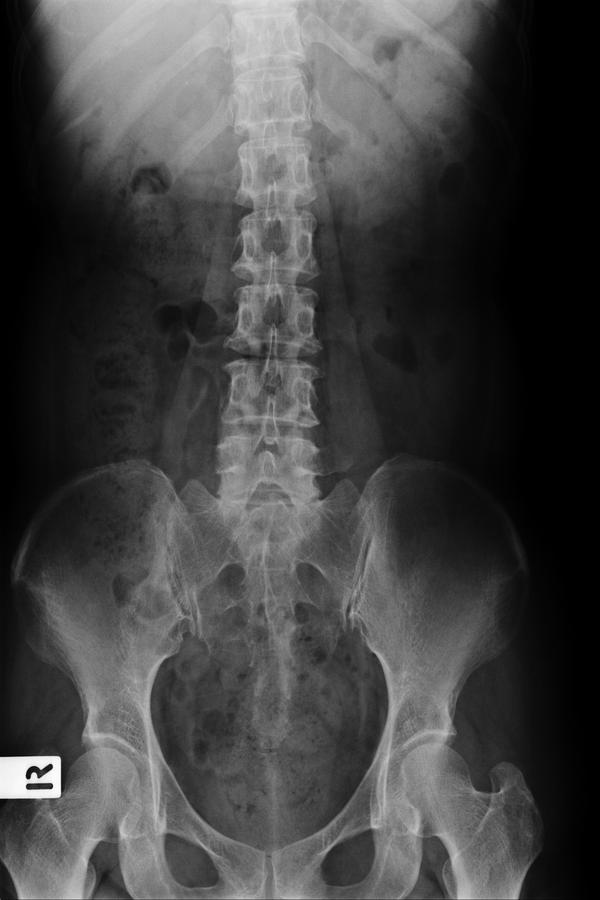lumbar scoliosis: (212, 108, 340, 528)
